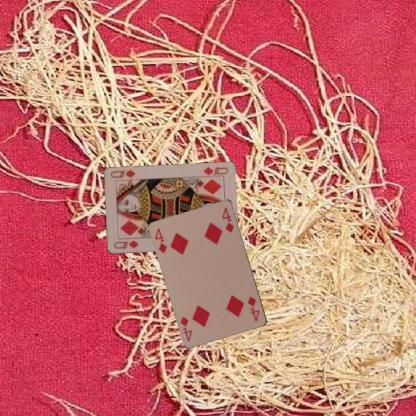4d: (245, 294, 261, 323), (153, 225, 168, 254)
Qd: (200, 164, 230, 179), (111, 238, 140, 250)
